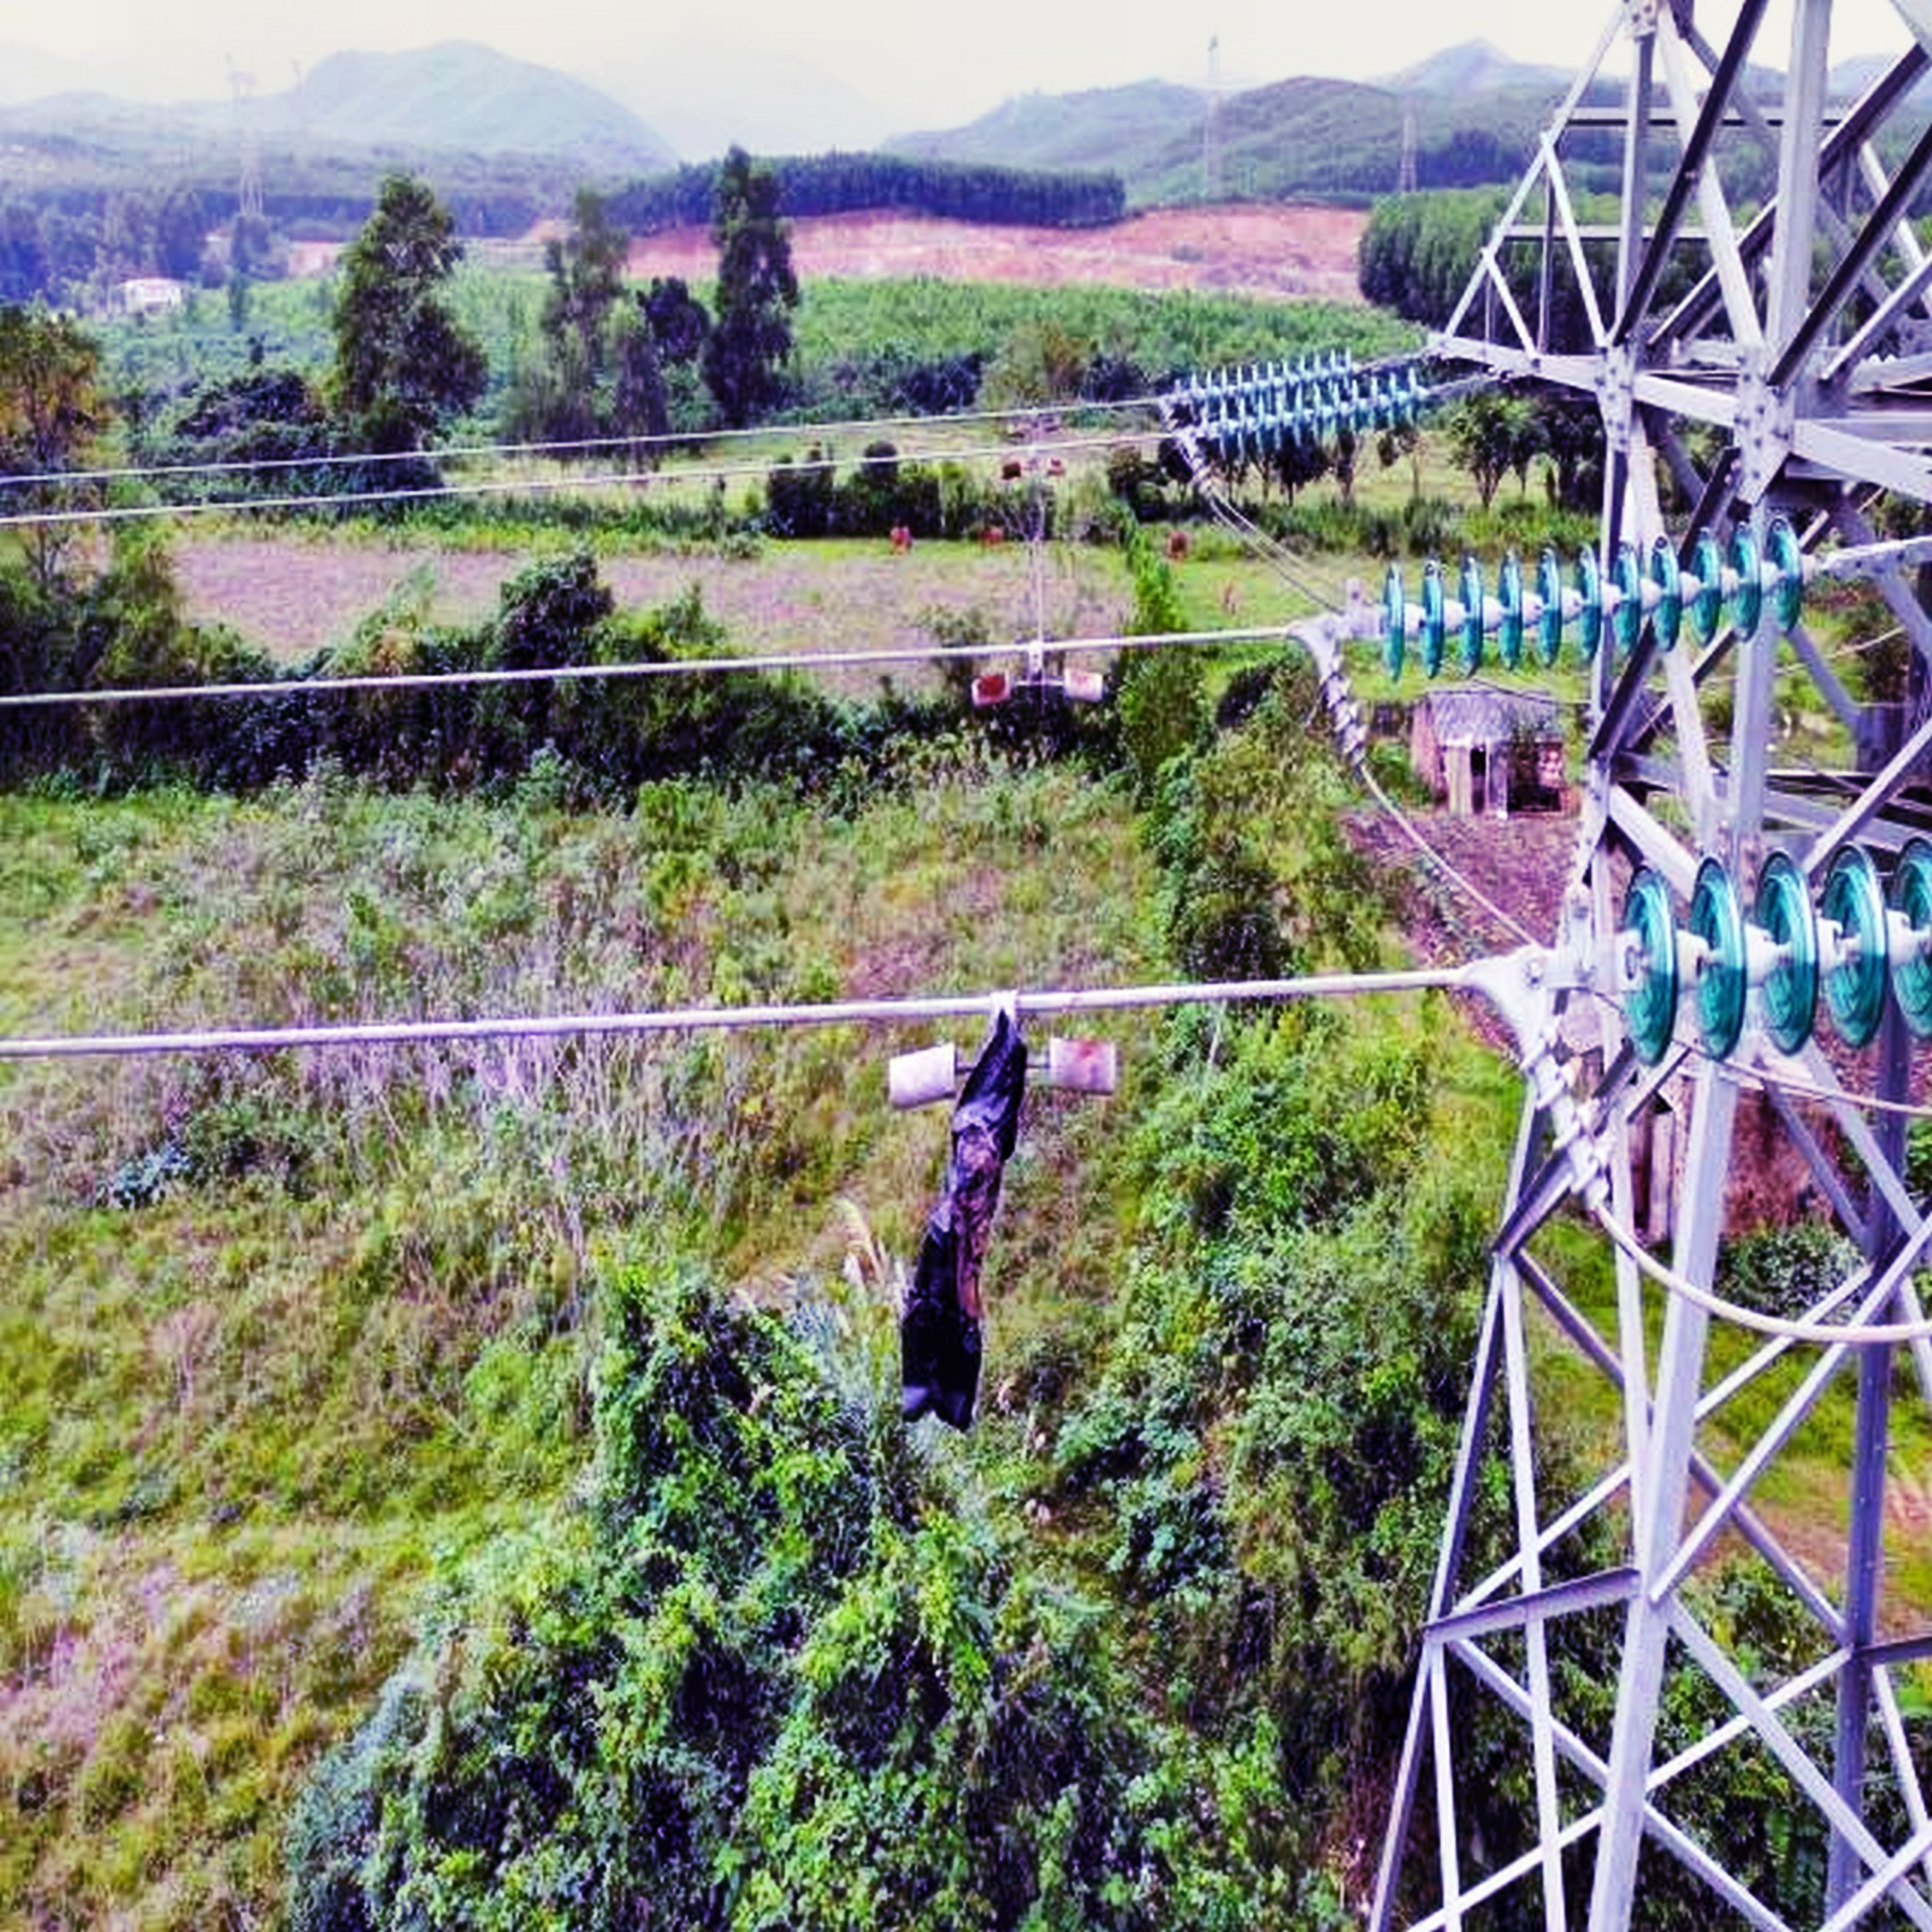wire foreign body: (872, 964, 1081, 1438)
